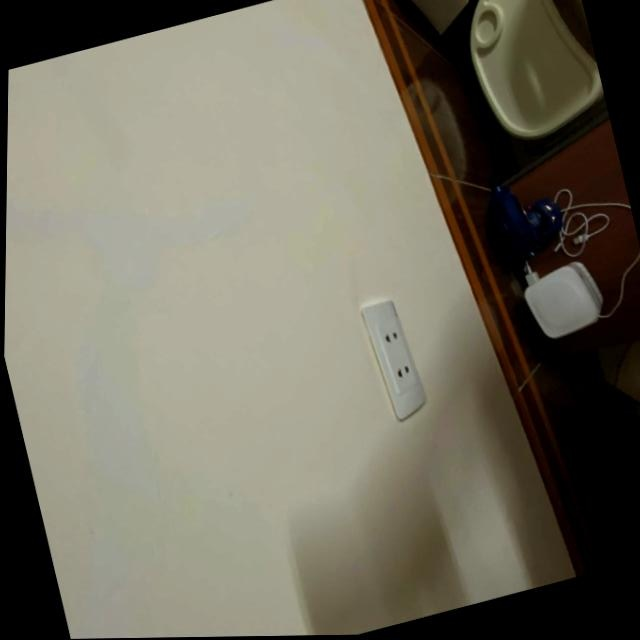outlet: (357, 296, 431, 426)
